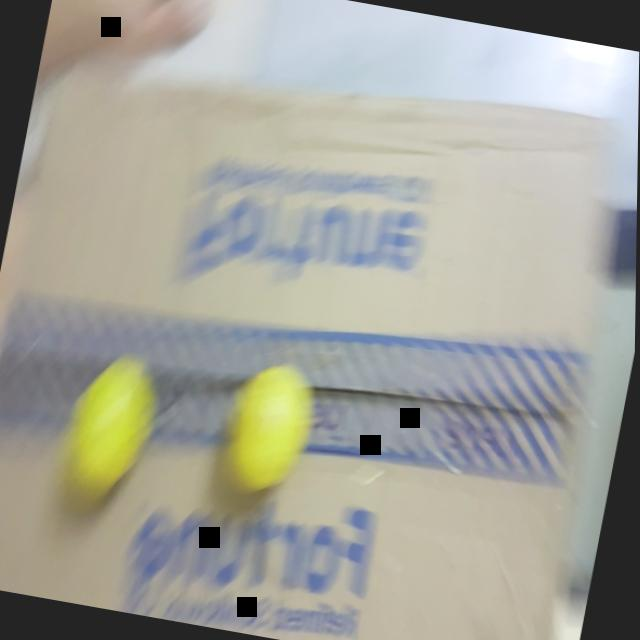lemon: (48, 336, 189, 509), (207, 339, 334, 500)
